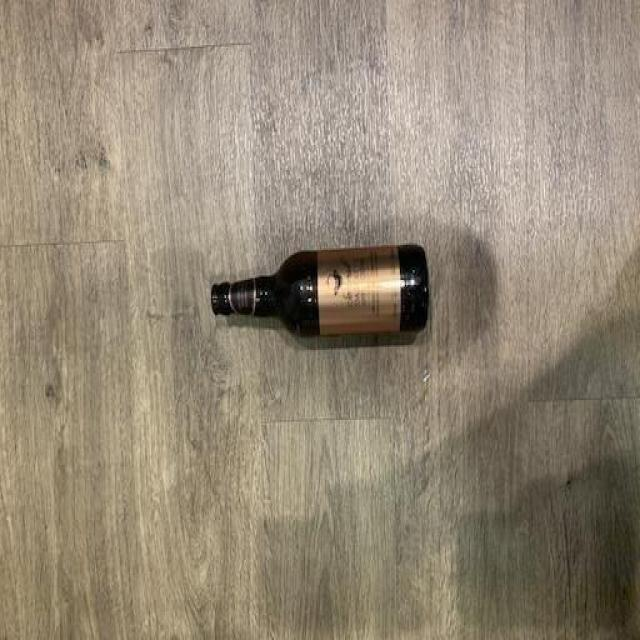bottle-glass: (210, 236, 430, 352)
